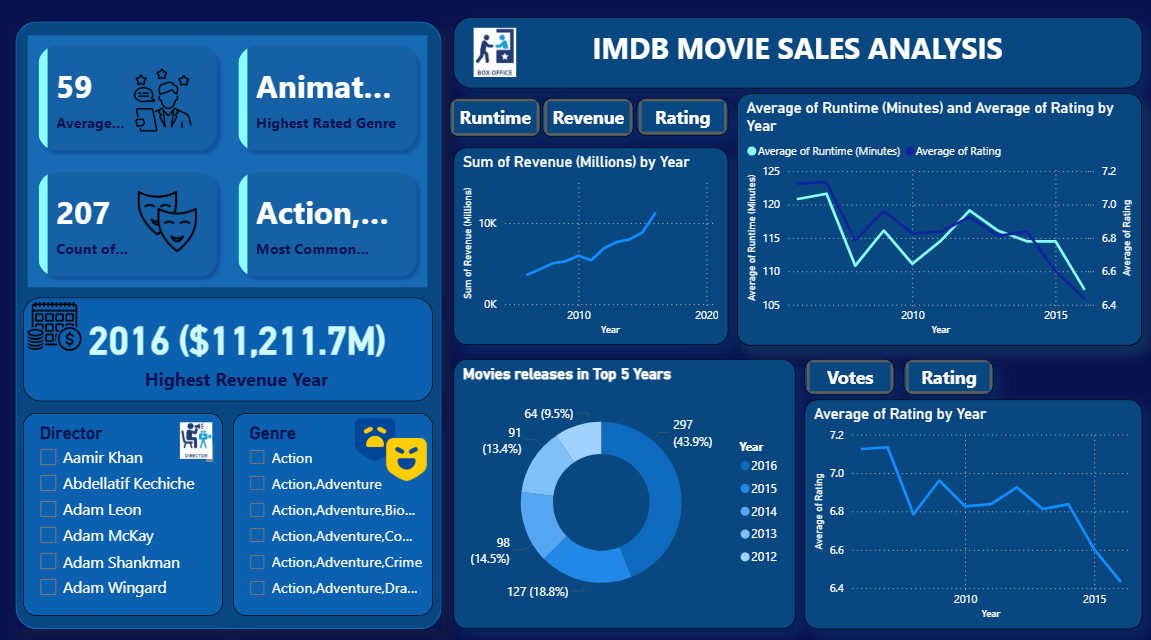

Layout of this report page (visuals, bound fields, positions):
{"tool":"powerbi","page":{"name":"Movie Trends Overtime","canvas":[1280,720],"ordinal":0},"visuals":[{"type":"shape","box":[18.3,25,473.3,675],"z":0},{"type":"lineChart","fields":{"Category":["Movie.Year"],"Y":["Sum(Movie.Revenue (Millions))"]},"box":[504.2,165.4,305.4,219.5],"z":1000},{"type":"donutChart","title":"Movies releases in Top 5 Years","fields":{"Category":["Movie.Year"],"Y":["Movie.Movie Count"]},"box":[505,400,380,300],"z":2000},{"type":"actionButton","box":[0,0,100,40],"z":3000},{"type":"lineChart","fields":{"Category":["Movie.Year"],"Y":["Avg(Movie.Rating)"]},"box":[895,445,375,255],"z":3000,"group":"g1"},{"type":"lineStackedColumnComboChart","fields":{"Category":["Movie.Year"],"Y2":["Avg(Movie.Runtime (Minutes))"],"Y":["Movie.Movie Count"]},"box":[820,105,450,280],"z":4000,"group":"g2"},{"type":"card","fields":{"Values":["Movie.Year With Highest Revenue"]},"box":[26.7,332,455,115],"z":4000},{"type":"cardVisual","fields":{"Data":["Avg(Movie.Metascore)","Movie.Highest Rated Genre","Count(Movie.Genre)","Movie.Most Common Genre"]},"box":[26.7,35,455,290],"z":5000},{"type":"actionButton","box":[895,400,100,40],"z":6000},{"type":"actionButton","box":[1005,400,100,40],"z":7000},{"type":"lineStackedColumnComboChart","fields":{"Category":["Movie.Year"],"Y":["Movie.Movie Count"],"Y2":["Sum(Movie.Revenue (Millions))"]},"box":[820,105,450,280],"z":8000,"group":"g2"},{"type":"group","id":"g1","title":"Group 1","box":[895,445,375,255],"z":8000},{"type":"group","id":"g2","title":"Group 2","box":[820,105,450,280],"z":9000},{"type":"textbox","box":[505,20,765,79],"z":10000},{"type":"lineChart","fields":{"Category":["Movie.Year"],"Y":["Avg(Movie.Runtime (Minutes))"],"Y2":["Avg(Movie.Rating)"]},"box":[820,105,450,280],"z":10000,"group":"g2"},{"type":"actionButton","box":[500,110,101.7,43.3],"z":11000},{"type":"actionButton","box":[604,110,101.7,43.3],"z":12000},{"type":"actionButton","box":[709,110,101.7,41.7],"z":13000},{"type":"slicer","fields":{"Values":["Movie.Director"]},"box":[26.7,460,222,225],"z":14000},{"type":"slicer","fields":{"Values":["Movie.Genre"]},"box":[260,460,221.7,225],"z":15000},{"type":"image","box":[390,455,90,90],"z":16000},{"type":"image","box":[500,27,101.8,65],"z":17000},{"type":"image","box":[192,465,54.1,50.9],"z":18000},{"type":"image","box":[11,329,100,70],"z":19000}]}

Visuals, with their boxes in screenshot pixels (x1, y1, x2, y2), scaled from the page's 1280x720 canvas onto the 1151x640 screenshot:
shape: {"left": 16, "top": 22, "right": 442, "bottom": 622}
lineChart - Movie.Year x Sum(Movie.Revenue (Millions)): {"left": 453, "top": 147, "right": 728, "bottom": 342}
"Movies releases in Top 5 Years" donutChart: {"left": 454, "top": 356, "right": 796, "bottom": 622}
actionButton: {"left": 0, "top": 0, "right": 90, "bottom": 36}
lineChart - Movie.Year x Avg(Movie.Rating): {"left": 805, "top": 396, "right": 1142, "bottom": 622}
lineStackedColumnComboChart - Movie.Year x Avg(Movie.Runtime (Minutes)): {"left": 737, "top": 93, "right": 1142, "bottom": 342}
card - Movie.Year With Highest Revenue: {"left": 24, "top": 295, "right": 433, "bottom": 397}
cardVisual - Avg(Movie.Metascore) x Movie.Highest Rated Genre: {"left": 24, "top": 31, "right": 433, "bottom": 289}
actionButton: {"left": 805, "top": 356, "right": 895, "bottom": 391}
actionButton: {"left": 904, "top": 356, "right": 994, "bottom": 391}
lineStackedColumnComboChart - Movie.Year x Movie.Movie Count: {"left": 737, "top": 93, "right": 1142, "bottom": 342}
"Group 1" group: {"left": 805, "top": 396, "right": 1142, "bottom": 622}
"Group 2" group: {"left": 737, "top": 93, "right": 1142, "bottom": 342}
textbox: {"left": 454, "top": 18, "right": 1142, "bottom": 88}
lineChart - Movie.Year x Avg(Movie.Runtime (Minutes)): {"left": 737, "top": 93, "right": 1142, "bottom": 342}
actionButton: {"left": 450, "top": 98, "right": 541, "bottom": 136}
actionButton: {"left": 543, "top": 98, "right": 635, "bottom": 136}
actionButton: {"left": 638, "top": 98, "right": 729, "bottom": 135}
slicer - Movie.Director: {"left": 24, "top": 409, "right": 224, "bottom": 609}
slicer - Movie.Genre: {"left": 234, "top": 409, "right": 433, "bottom": 609}
image: {"left": 351, "top": 404, "right": 432, "bottom": 484}
image: {"left": 450, "top": 24, "right": 541, "bottom": 82}
image: {"left": 173, "top": 413, "right": 221, "bottom": 459}
image: {"left": 10, "top": 292, "right": 100, "bottom": 355}
